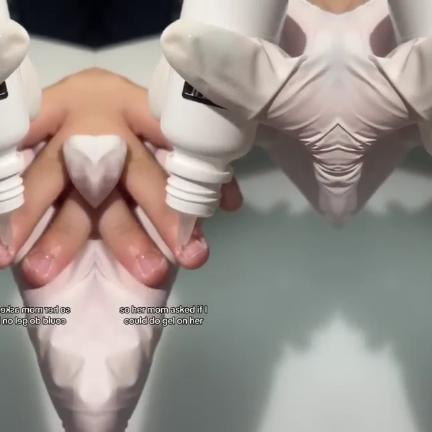Nail: (180, 235, 204, 260), (138, 251, 161, 275), (27, 251, 50, 275), (0, 242, 8, 260)
